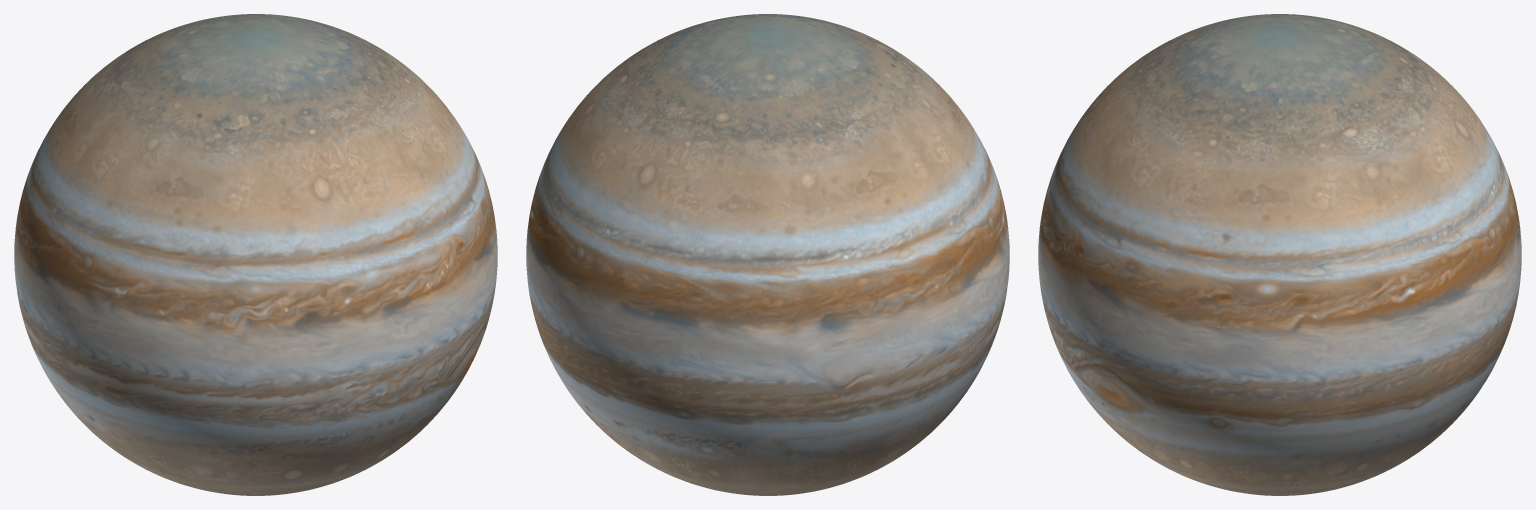
File: jupiter.glb
3 views of the same model, side by side, from view 1: azimuth 30°, elevation 25°; view 2: azimuth 150°, elevation 25°; view 3: azimuth 270°, elevation 25° (orthographic).
Parts seen in each view (by area): view 1: Jupiter; view 2: Jupiter; view 3: Jupiter.
Boxes of the visible parts, x1=… form: Jupiter: x1=14, y1=14, x2=497, y2=495; Jupiter: x1=526, y1=14, x2=1009, y2=495; Jupiter: x1=1038, y1=14, x2=1521, y2=495.
Bounding box in the file's own units: 0.5 × 0.5 × 0.5.
1 material, 1 textured.
